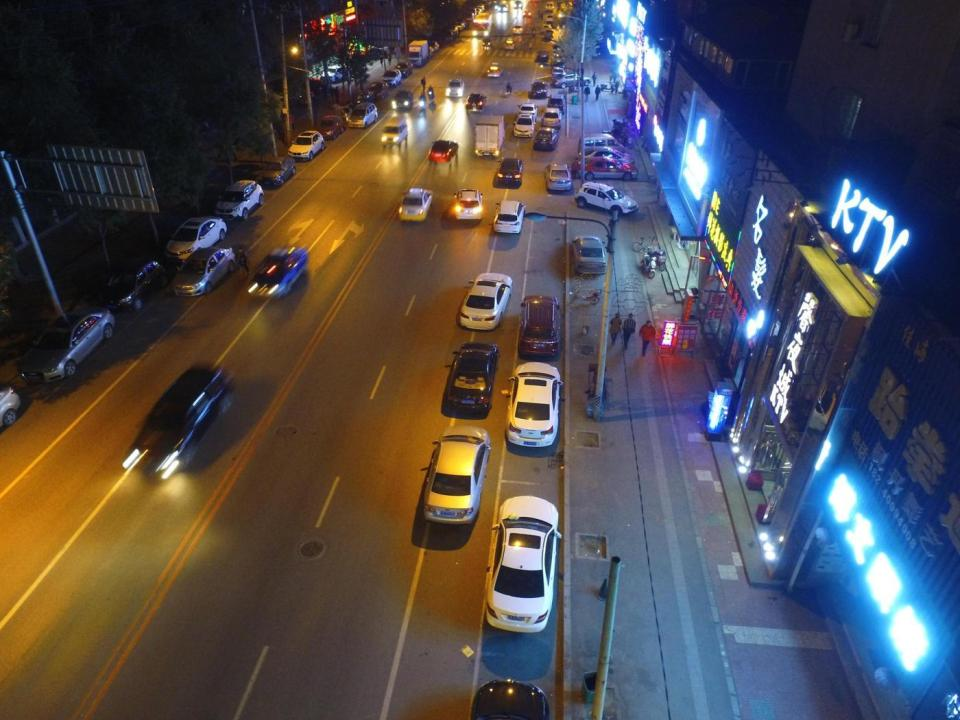bus: (472, 13, 494, 36)
car: (132, 364, 234, 474), (484, 495, 560, 633), (18, 308, 115, 380), (422, 427, 491, 528), (500, 362, 564, 454), (95, 257, 168, 313), (450, 338, 496, 414), (246, 245, 308, 300), (170, 246, 236, 297), (460, 270, 512, 331), (518, 294, 560, 360), (165, 216, 227, 258), (568, 183, 640, 214), (214, 180, 266, 222), (570, 235, 607, 272), (491, 199, 525, 236), (398, 187, 433, 222), (450, 188, 486, 221), (258, 156, 294, 188), (289, 130, 324, 160), (497, 155, 526, 185), (584, 147, 633, 164), (349, 103, 378, 130), (544, 164, 570, 193), (531, 126, 557, 150), (428, 138, 456, 160), (512, 114, 534, 138), (391, 88, 416, 109), (320, 116, 342, 139), (553, 73, 591, 86), (543, 108, 563, 129), (467, 91, 485, 113), (351, 90, 374, 106), (517, 102, 537, 120), (367, 81, 385, 99), (381, 69, 400, 86), (396, 62, 413, 80), (447, 80, 464, 98), (529, 83, 548, 99), (548, 95, 566, 111), (332, 106, 352, 120), (488, 63, 505, 79), (550, 66, 567, 79), (505, 38, 518, 53), (552, 57, 568, 68), (537, 49, 552, 60), (483, 39, 496, 51), (424, 42, 440, 51), (464, 8, 475, 20), (544, 15, 555, 26), (496, 5, 509, 14), (456, 20, 466, 31), (555, 48, 567, 56), (443, 33, 456, 40), (514, 26, 524, 34), (450, 25, 460, 33), (542, 31, 554, 37), (524, 11, 531, 19), (475, 8, 484, 14)
truck: (473, 115, 508, 159), (409, 39, 428, 68)
van: (378, 115, 408, 150), (576, 133, 624, 150), (545, 2, 557, 13)
